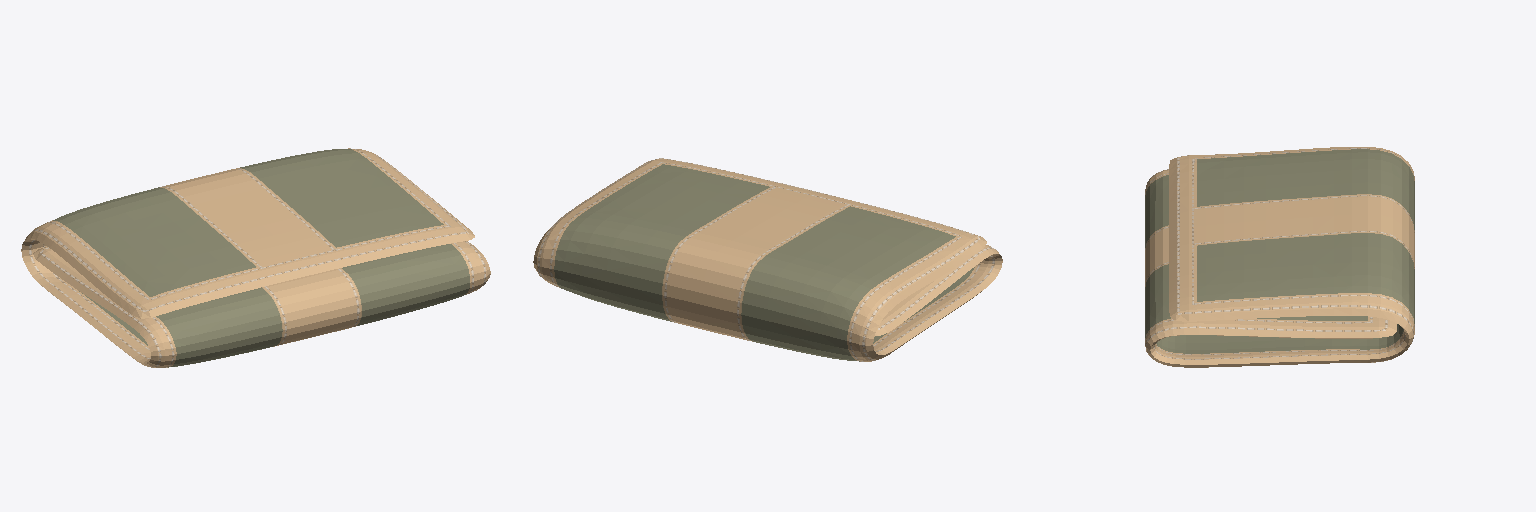
3 views of the same model, side by side, from view 1: azimuth 30°, elevation 25°; view 2: azimuth 150°, elevation 25°; view 3: azimuth 270°, elevation 25° (orthographic).
Visible parts, largest first — view 1: Plane01; view 2: Plane01; view 3: Plane01.
Boxes of the visible parts, x1,y1,x2,y2 form: Plane01: [21, 148, 490, 367]; Plane01: [533, 158, 1002, 361]; Plane01: [1145, 147, 1414, 367].
Bounding box in the file's own units: 5.07 × 1.2 × 3.49.
Materials: 1 (1 with a texture image).